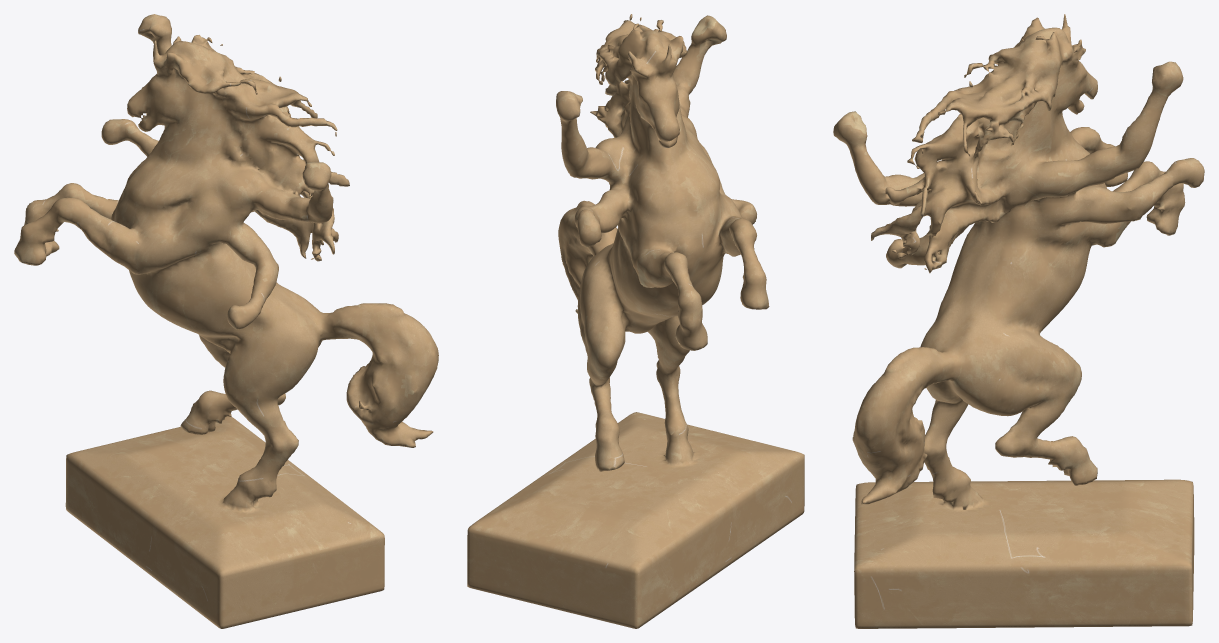
Rendered from 3.2_exam_3dscene_Pferd_simpletextured.glb.
3 renders of one model, left to right at view 1: azimuth 30°, elevation 25°; view 2: azimuth 150°, elevation 25°; view 3: azimuth 270°, elevation 25°, orthographic. The views are drawn at different scales.
Visible parts, largest first — view 1: Pferd; view 2: Pferd; view 3: Pferd.
Part boxes in pixels (x1,y1,x2,y2): Pferd: (14,14,438,628); Pferd: (467,14,804,628); Pferd: (833,14,1204,628).
Size of the model in its own units: 5.87 by 9.37 by 5.76.
1 material, 1 textured.
